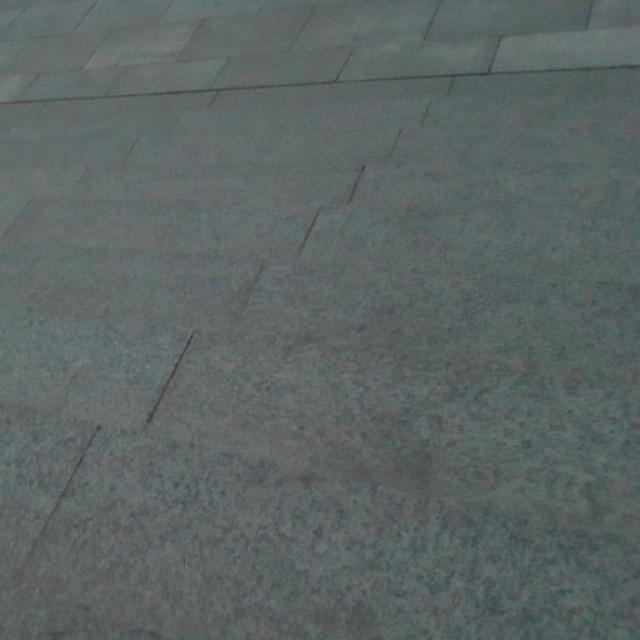stair: (1, 151, 640, 625)
